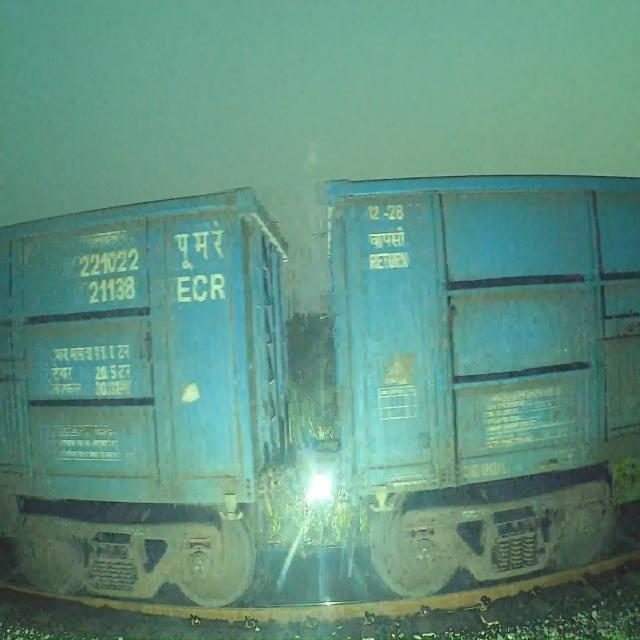WAgon-uic: (326, 172, 640, 595), (0, 182, 291, 609)
uic: (76, 245, 141, 309)
